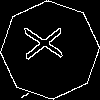X: (25, 25, 72, 61)
